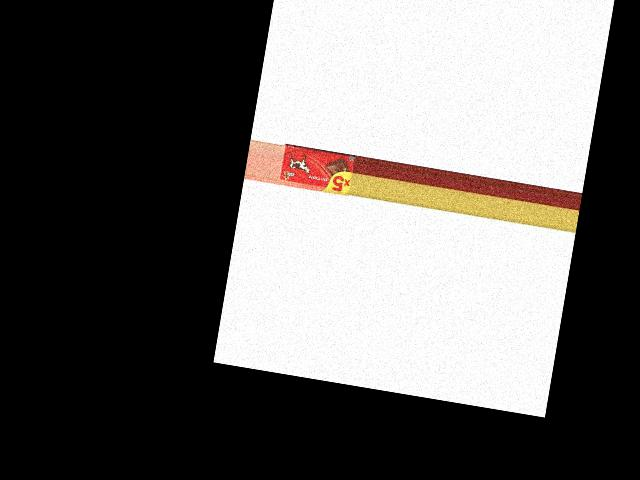chocolate: (276, 143, 355, 197)
